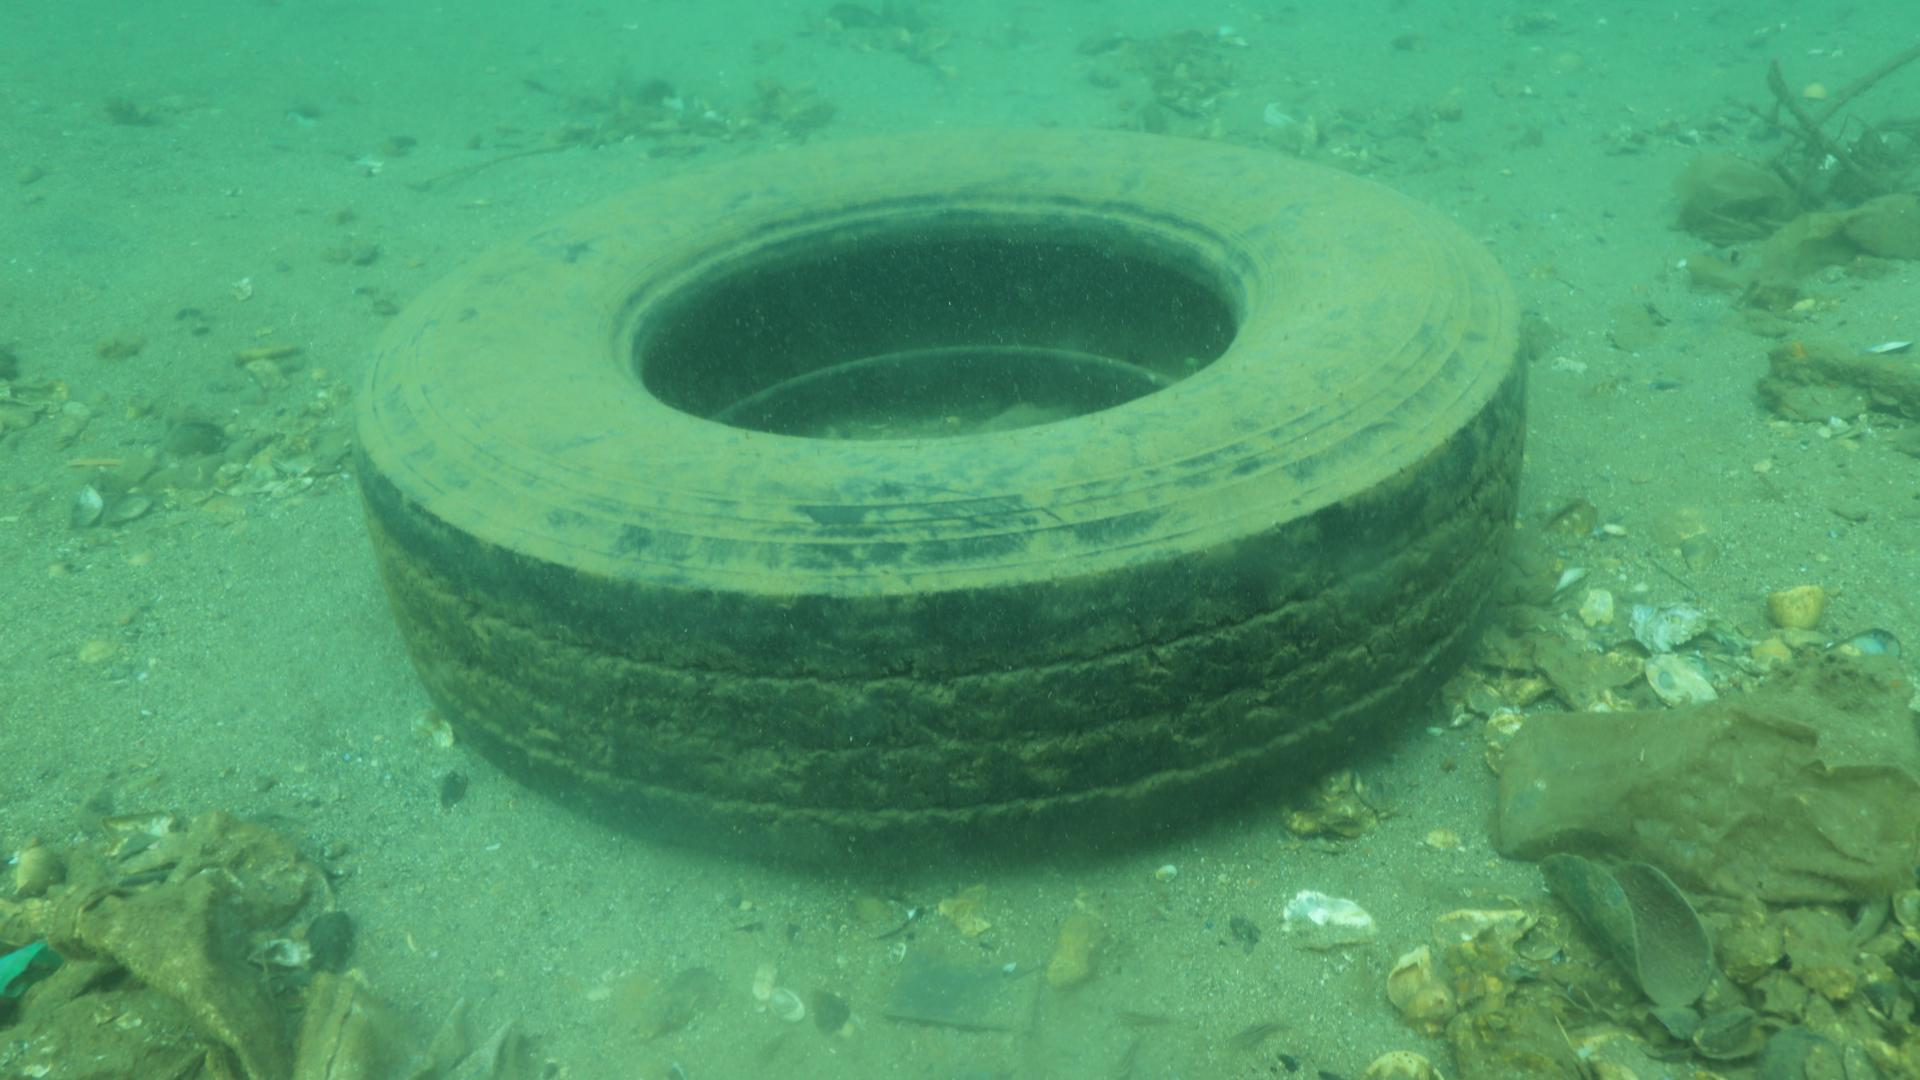tire: (355, 123, 1526, 873)
